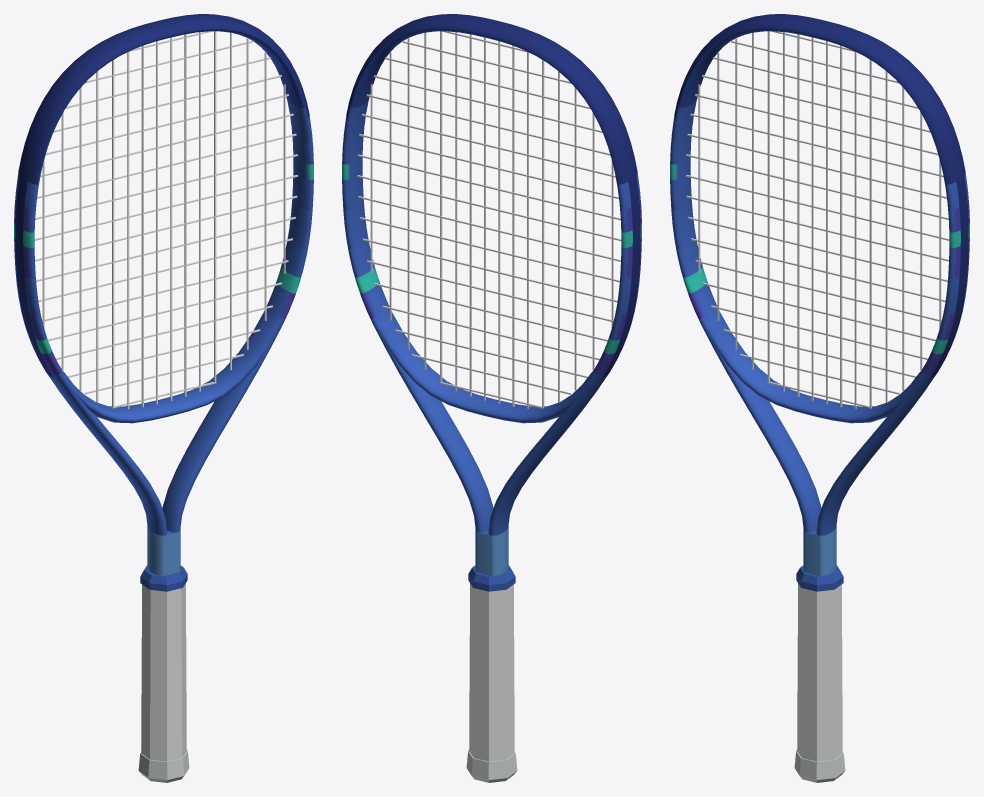
File: yonex-ezone-115-2025.glb
3 views of the same model, side by side, from view 1: azimuth 30°, elevation 25°; view 2: azimuth 150°, elevation 25°; view 3: azimuth 330°, elevation 25° (orthographic).
Parts seen in each view (by area): view 1: frame, strings_mains, strings_crosses, grip, bumper, grommets, butt_cap, collar; view 2: frame, strings_mains, strings_crosses, grip, bumper, grommets, butt_cap, collar; view 3: frame, strings_mains, strings_crosses, grip, bumper, grommets, butt_cap, collar.
Boxes of the visible parts, <box> form: frame: <box>14,29,313,575</box>; strings_mains: <box>42,31,285,409</box>; strings_crosses: <box>34,31,298,407</box>; grip: <box>141,583,186,761</box>; bumper: <box>18,14,309,184</box>; grommets: <box>15,176,53,377</box>; butt_cap: <box>138,750,189,782</box>; collar: <box>140,565,187,591</box>; frame: <box>342,29,641,575</box>; strings_mains: <box>370,31,613,408</box>; strings_crosses: <box>357,31,621,408</box>; grip: <box>469,583,514,761</box>; bumper: <box>346,14,637,184</box>; grommets: <box>602,176,640,377</box>; butt_cap: <box>466,750,517,782</box>; collar: <box>468,565,515,591</box>; frame: <box>670,29,969,575</box>; strings_mains: <box>698,31,941,409</box>; strings_crosses: <box>685,31,949,407</box>; grip: <box>797,583,842,761</box>; bumper: <box>674,14,965,184</box>; grommets: <box>930,176,968,377</box>; butt_cap: <box>794,750,845,782</box>; collar: <box>796,565,843,591</box>.
Size of the model in its own units: 0.2811 by 0.6924 by 0.0396.
